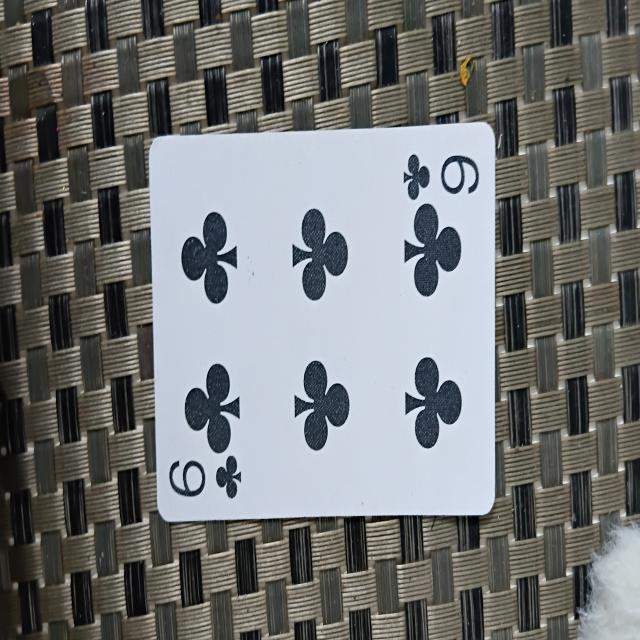6C: (151, 121, 496, 518)
